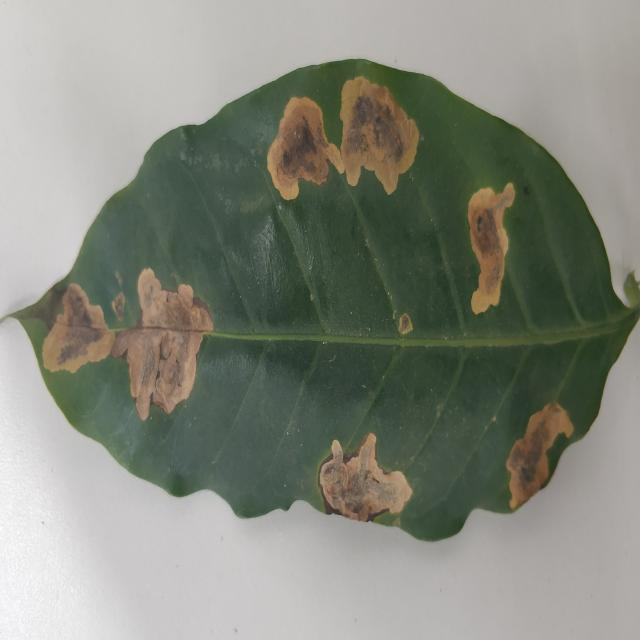Plaga-Minador: (16, 60, 640, 544)
